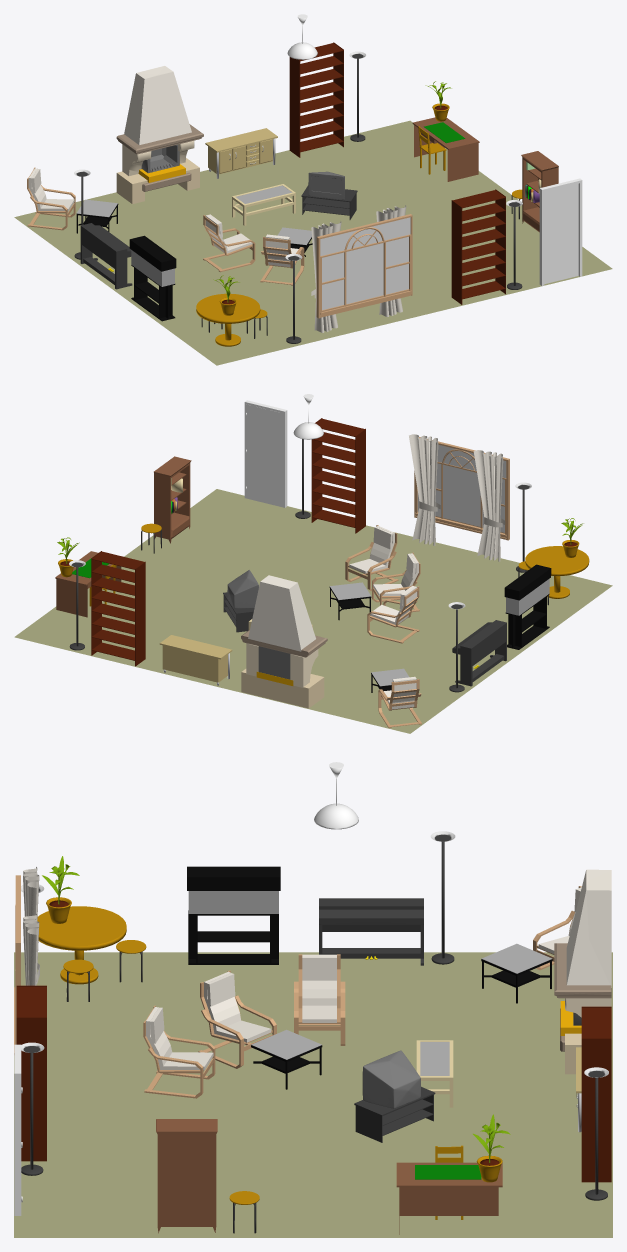
Rendered from room.dae.
3 views of the same model, one above another, from view 1: azimuth 30°, elevation 25°; view 2: azimuth 150°, elevation 25°; view 3: azimuth 270°, elevation 25° (orthographic). The views are drawn at different scales.
Visible parts, largest first — view 1: ground_1, sweethome3d_window_pane_165, hote_65, Door, Cube_1_48, Corps_10, Plateau_250, Montant_147, Montant_287, socle_reserve_bois_70, Montant_1_219, Cube_1_1_92 (+14 smaller); view 2: ground_1, hote_65, Door, sweethome3d_window_pane_165, Cube_1_48, socle_reserve_bois_70, _37, _41, Cube_1_229, Corps_10, Plateau_250, Plane_138 (+15 smaller); view 3: ground_1, Cube_1_48, hote_65, Montant_218, Montant_1_288, Plateau_250, Cube_2_93, TV_22, sweethome3d_window_pane_30, Clavier_8, Corps_10, Cube_3_94 (+21 smaller).
Part boxes in pixels (box(x1,y1,x2,y2)): ground_1: box(14, 120, 612, 365); sweethome3d_window_pane_165: box(320, 217, 410, 310); hote_65: box(124, 66, 191, 145); Door: box(544, 183, 578, 283); Cube_1_48: box(521, 151, 558, 232); Corps_10: box(80, 223, 127, 289); Plateau_250: box(196, 293, 260, 323); Montant_147: box(539, 178, 582, 285); Montant_287: box(451, 200, 462, 304); socle_reserve_bois_70: box(116, 158, 199, 204); Montant_1_219: box(289, 57, 300, 157); Cube_1_1_92: box(447, 143, 478, 181); ground_1: box(14, 489, 612, 733); hote_65: box(248, 575, 315, 651); Door: box(246, 404, 282, 507); sweethome3d_window_pane_165: box(417, 444, 506, 532); Cube_1_48: box(154, 456, 191, 543); socle_reserve_bois_70: box(241, 669, 324, 708); _37: box(409, 434, 438, 543); _41: box(473, 450, 503, 559); Cube_1_229: box(162, 645, 227, 682); Corps_10: box(460, 620, 506, 686); Plateau_250: box(525, 546, 589, 576); Plane_138: box(474, 451, 502, 561); ground_1: box(14, 952, 612, 1237); Cube_1_48: box(156, 1119, 217, 1233); hote_65: box(566, 869, 611, 987); Montant_218: box(581, 1038, 611, 1182); Montant_1_288: box(16, 1017, 46, 1161); Plateau_250: box(37, 906, 126, 950); Cube_2_93: box(399, 1187, 498, 1215); TV_22: box(362, 1050, 420, 1108); sweethome3d_window_pane_30: box(188, 891, 278, 913); Clavier_8: box(319, 909, 423, 924); Corps_10: box(319, 898, 423, 958); Cube_3_94: box(396, 1162, 502, 1187).
Size of the model in its own units: 14.41 by 12.77 by 7.7.
